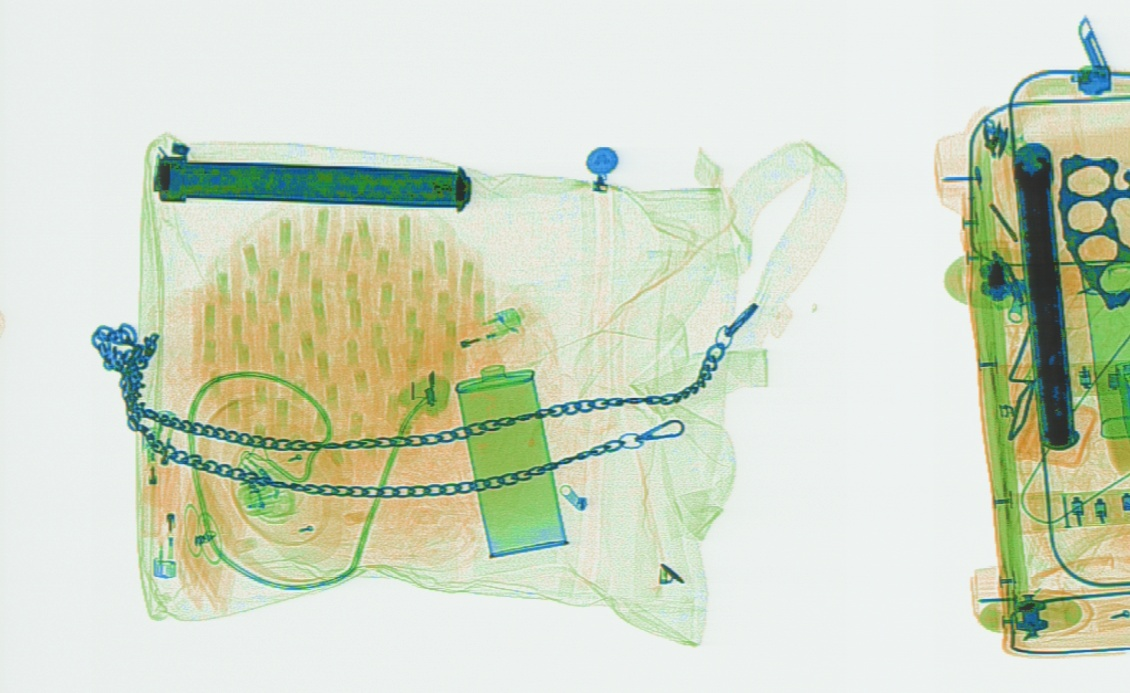firecrackers: (187, 195, 500, 466)
lighter: (395, 302, 525, 375), (134, 405, 176, 538), (144, 461, 181, 583)
zippooil: (455, 363, 568, 558)
